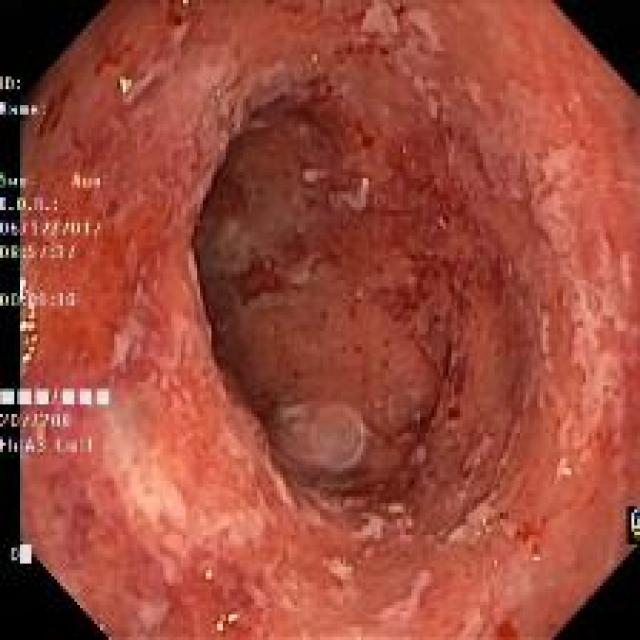ulcerative-colitis-grade-3: (22, 1, 640, 640)
